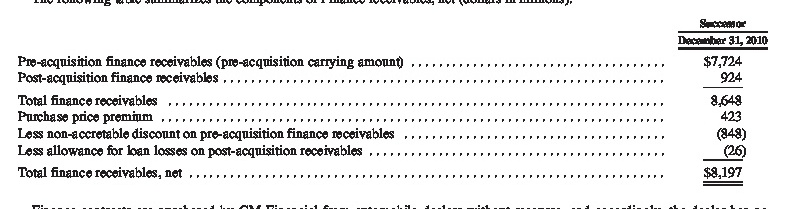table: (0, 0, 785, 209)
